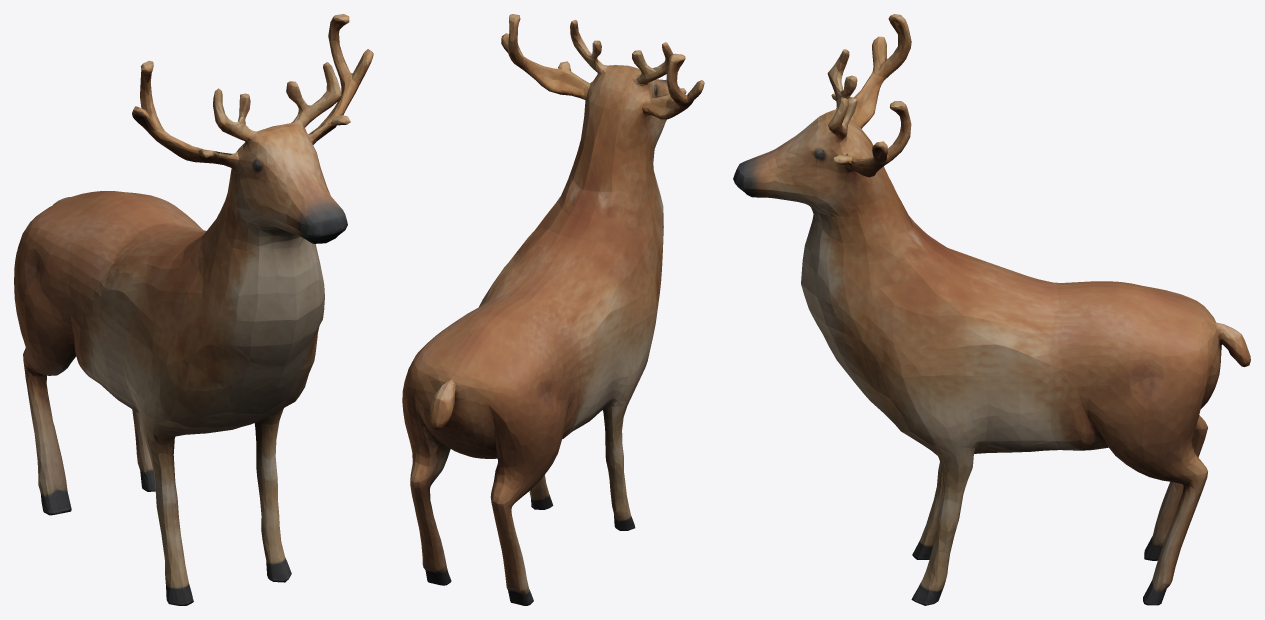
The picture shows the model from 3 angles, left to right: view 1: azimuth 30°, elevation 25°; view 2: azimuth 150°, elevation 25°; view 3: azimuth 270°, elevation 25°; orthographic projection. The views are drawn at different scales.
Parts seen in each view (by area): view 1: world; view 2: world; view 3: world.
Boxes of the visible parts, x1,y1,x2,y2 form: world: (14,14,373,605); world: (402,14,704,605); world: (733,14,1250,605).
Size of the model in its own units: 0.4484 by 1 by 0.9045.
Materials: 1 (1 with a texture image).
